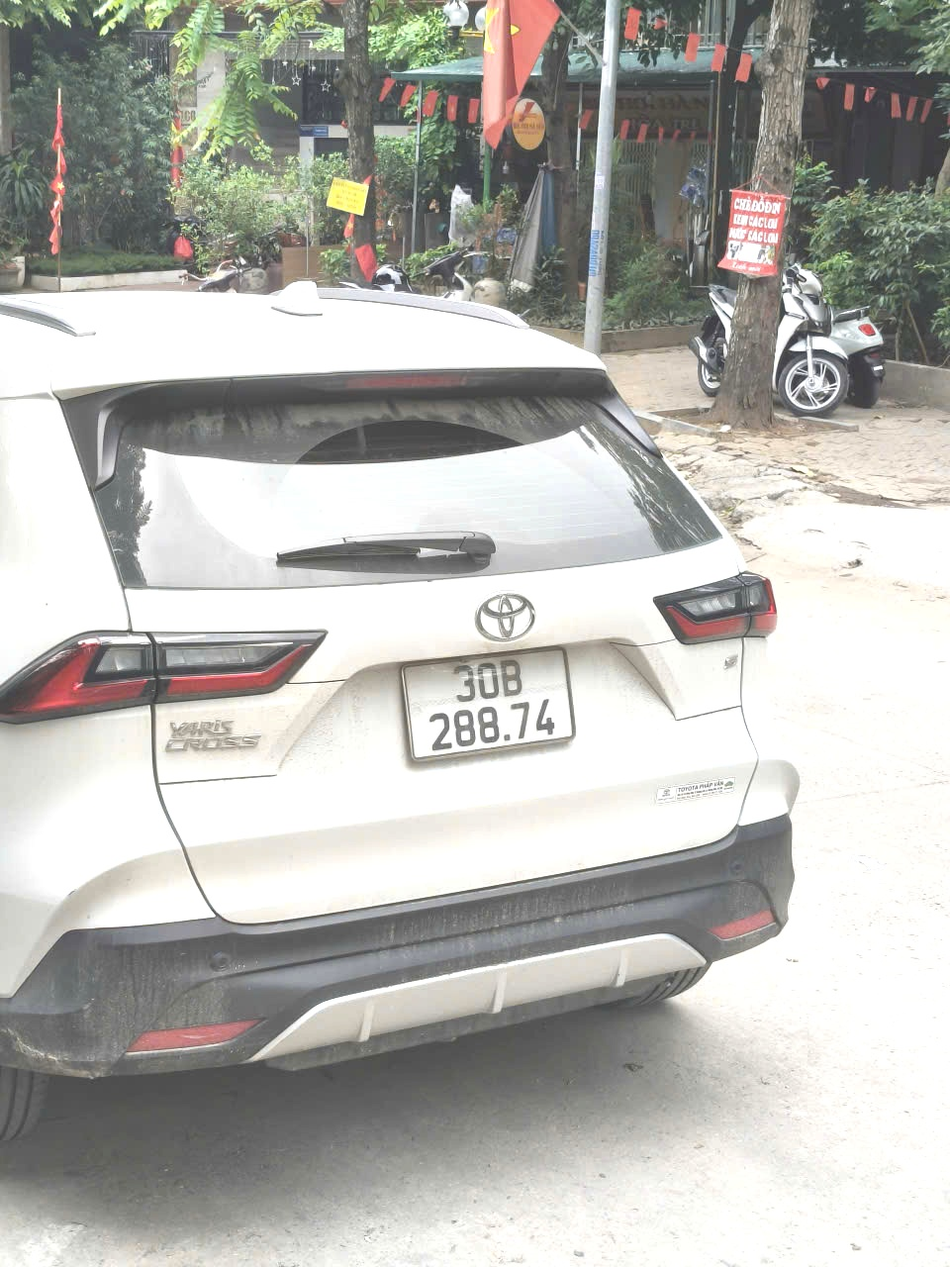plate: (156, 715, 267, 758)
